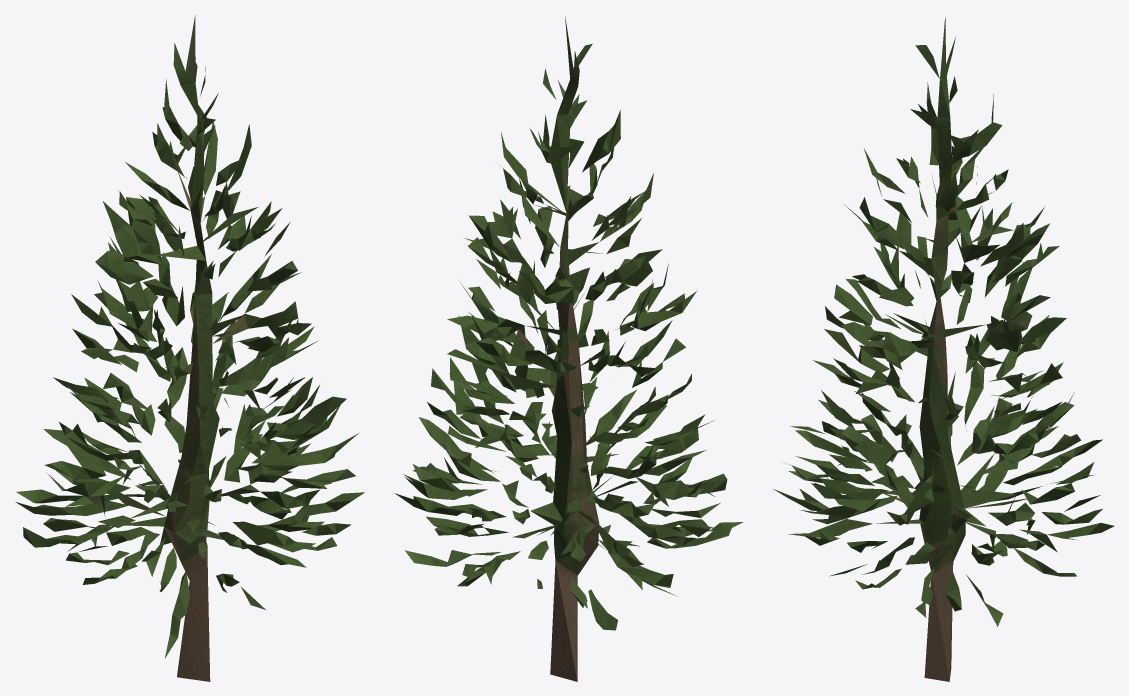
Rendered from conifer.glb.
3 renders of one model, left to right at view 1: azimuth 30°, elevation 25°; view 2: azimuth 150°, elevation 25°; view 3: azimuth 270°, elevation 25°, orthographic.
Size of the model in its own units: 0.8538 by 1.82 by 0.8528.
1 material, 1 textured.
